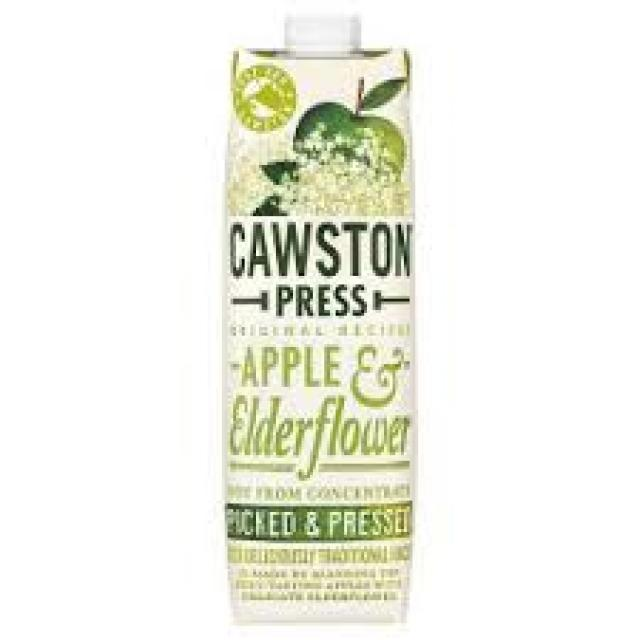non_white_jug: (215, 19, 425, 622)
